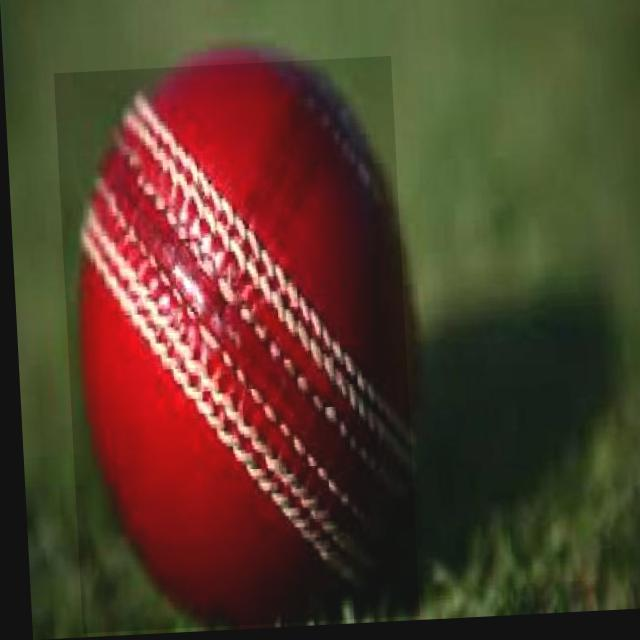-: (53, 60, 413, 634)
